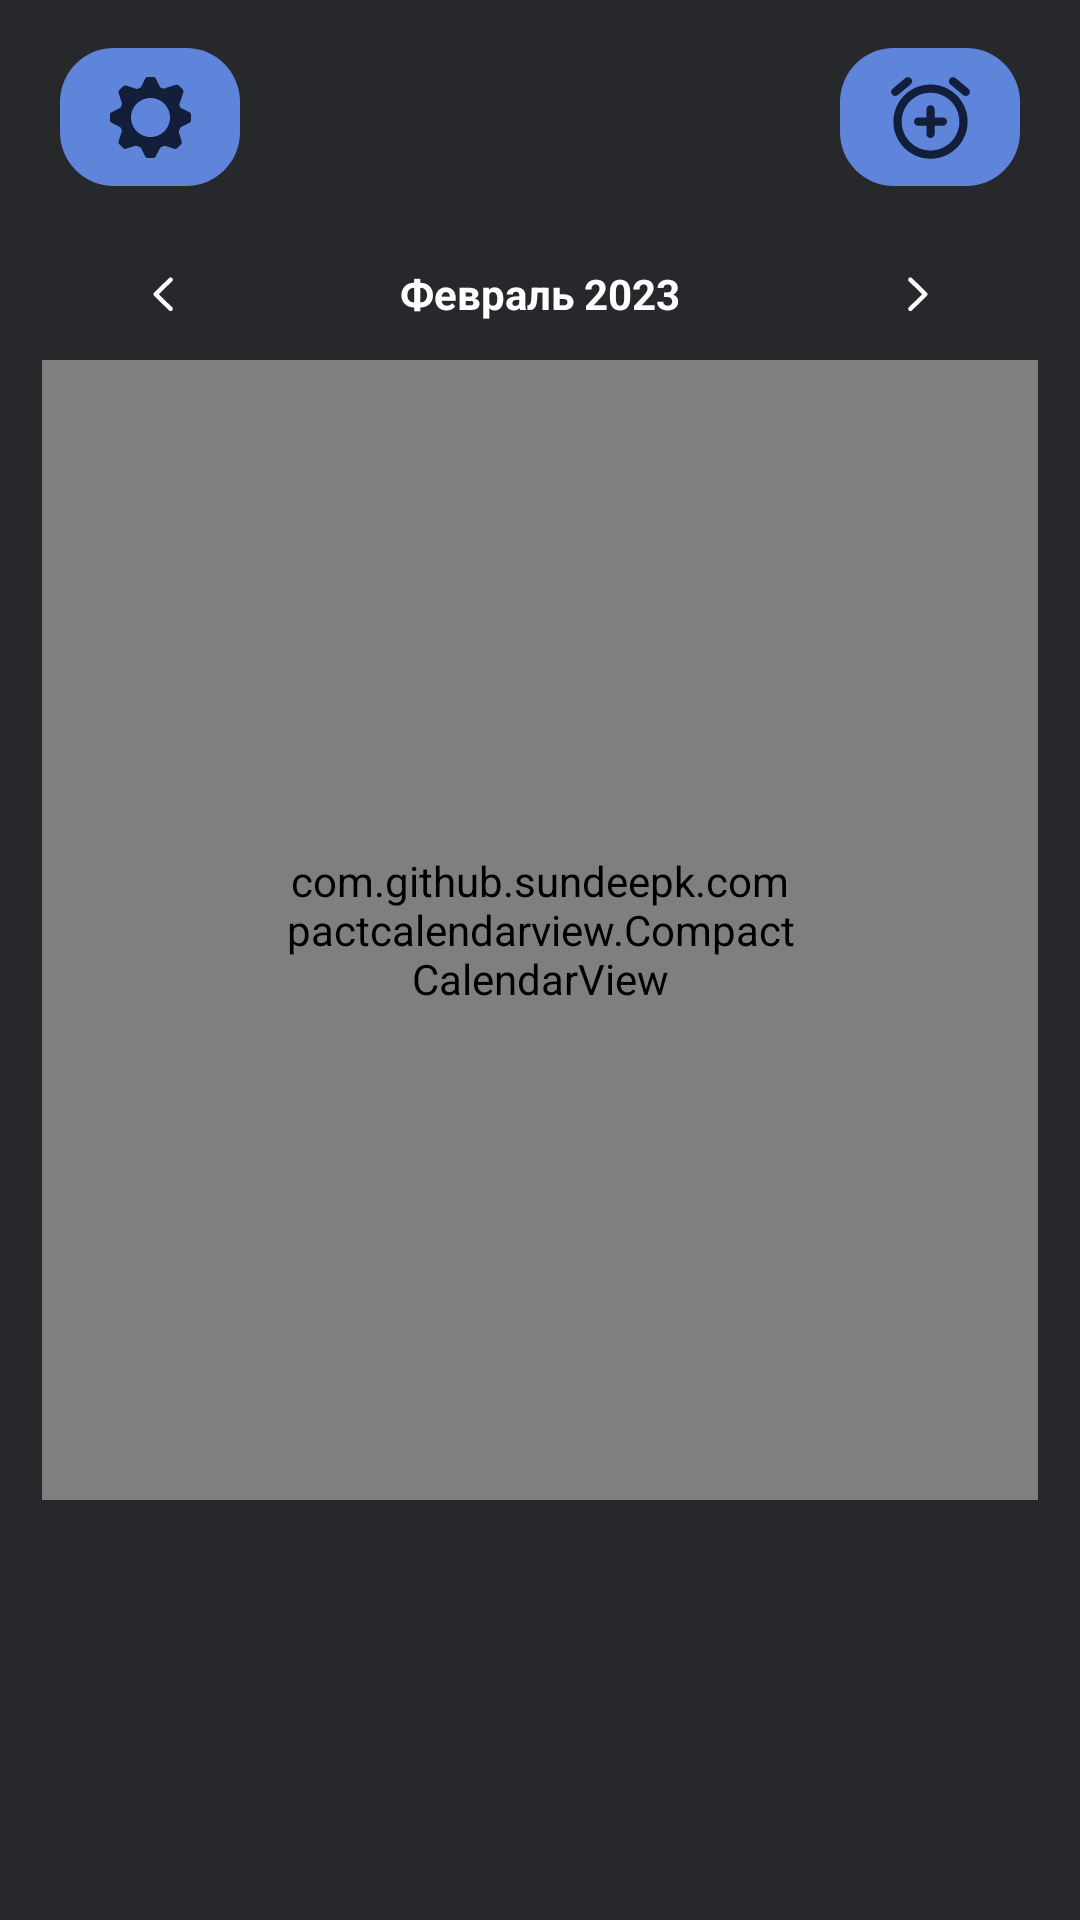

Icons on this 1080w x 1920h Android screen, each with the point to tap as [x,y]:
alarm: [930,117]
chevrone left: [163,294]
chevrone right: [918,294]
settings gear: [150,117]
